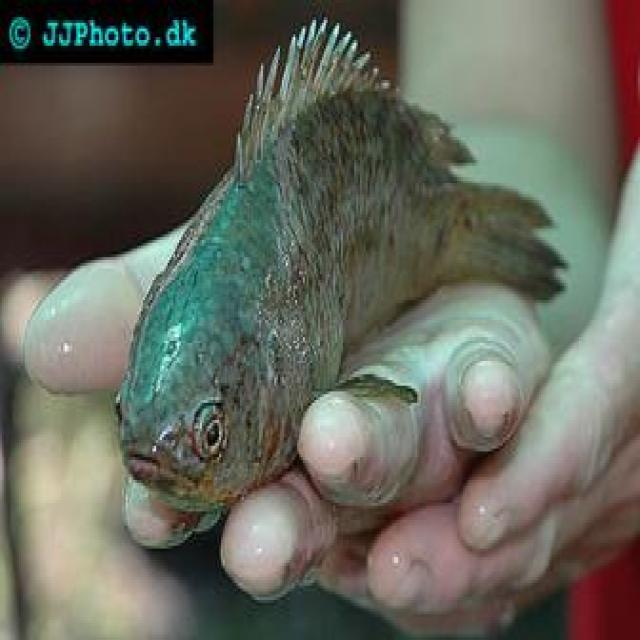Climbing-Perch: (89, 47, 596, 492)
